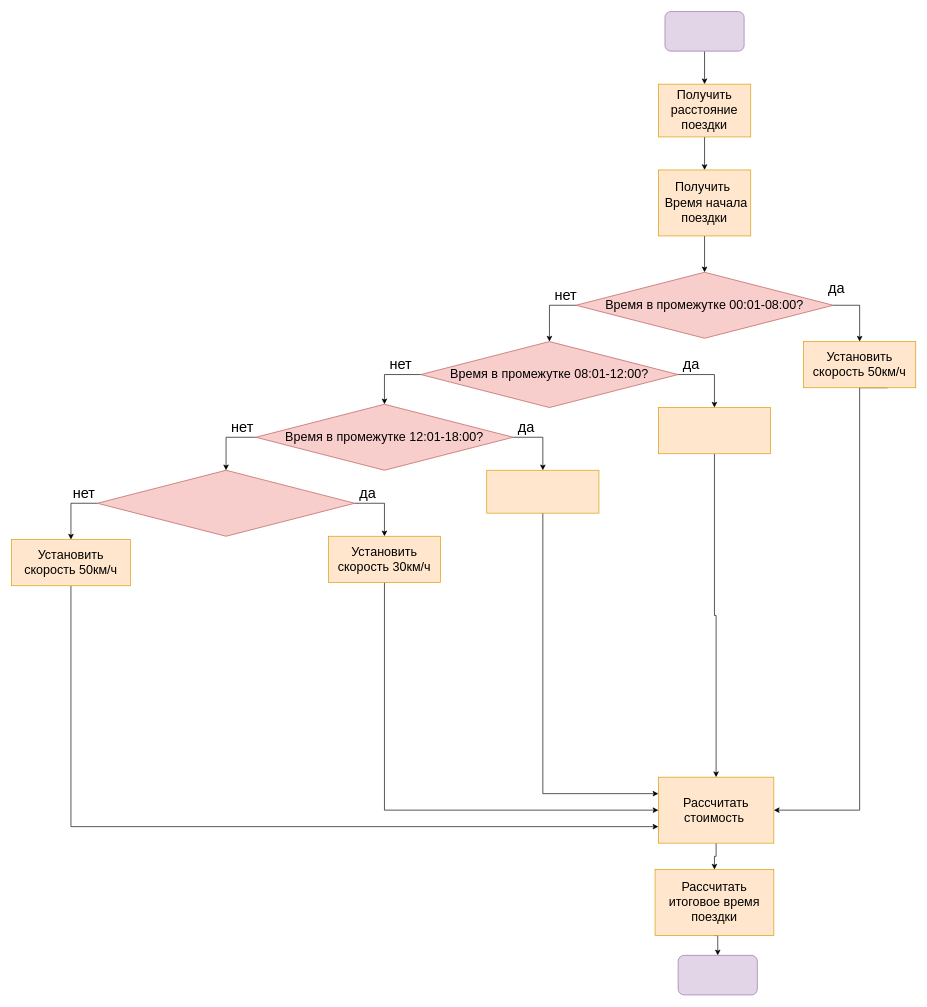
This 927x1007 diagram has some shape labels left out. Here are the shapes that lost their labels. From the top down, the centre of each, then its label:
At [704,31]: "Начало".
At [714,430]: "Установить скорость 35км/ч".
At [226,503]: "Время в промежутке 18:01-22:00?".
At [542,491]: "Установить скорость 42км/ч".
At [717,975]: "Конец".
